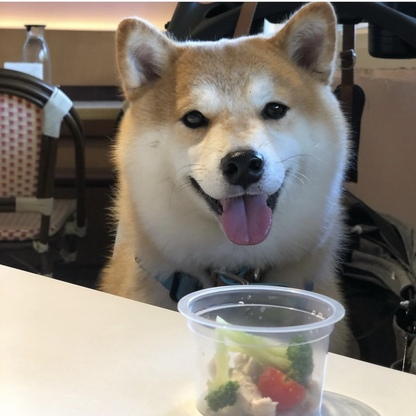shiba: (90, 2, 366, 364)
